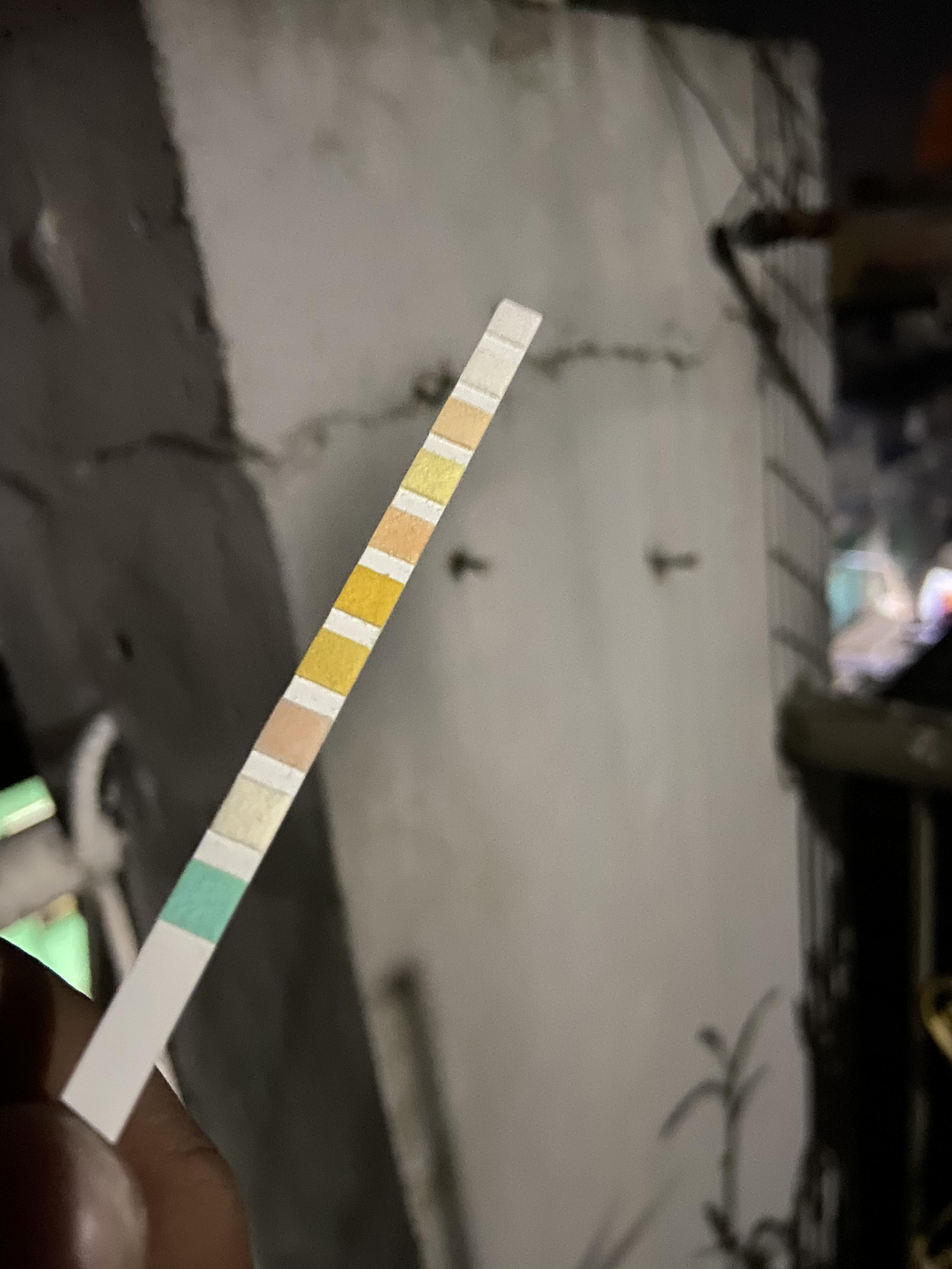Bilirubin: (231, 789, 275, 838)
Blood: (350, 578, 392, 616)
Glucose: (182, 875, 227, 924)
Ketone: (273, 711, 317, 757)
Leukocytes: (497, 311, 531, 342)
Nitrite: (472, 355, 508, 389)
Protein: (414, 460, 455, 493)
SpGravity: (312, 644, 358, 682)
Urobilinogen: (443, 407, 481, 440)
pH: (384, 518, 425, 553)
strip: (60, 298, 544, 1134)
